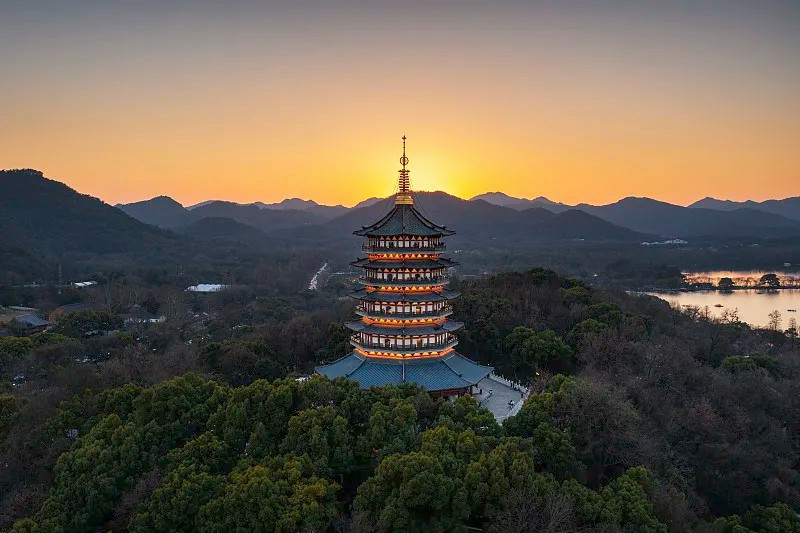Leifeng: (310, 132, 495, 412)
